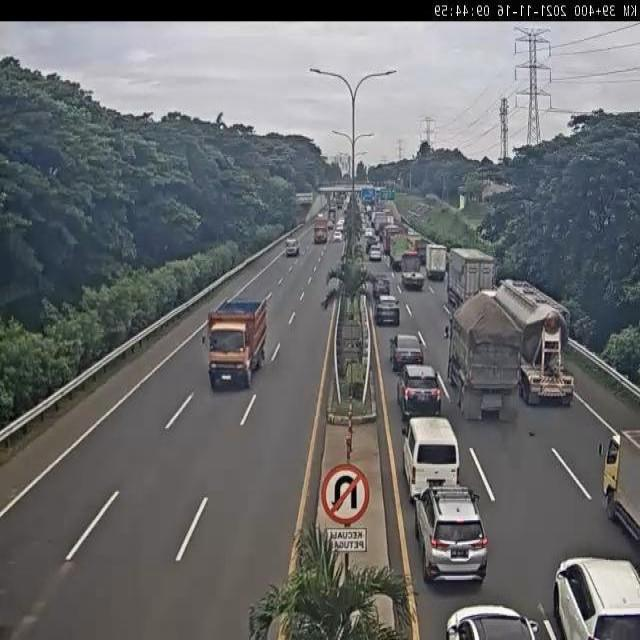Car: (553, 556, 640, 640), (414, 486, 487, 585), (443, 604, 542, 640), (397, 363, 442, 419), (391, 333, 424, 372), (374, 295, 400, 326), (285, 237, 300, 256), (369, 245, 382, 261)
Truck: (446, 294, 520, 421), (204, 293, 268, 388), (600, 430, 639, 553), (446, 249, 494, 301), (401, 252, 426, 288), (425, 244, 447, 279)
Van: (403, 416, 459, 501)
